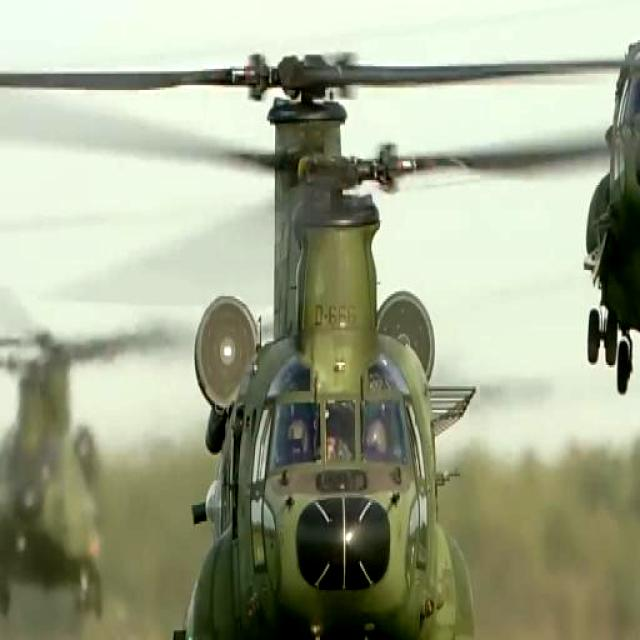drone: (149, 0, 531, 640), (0, 252, 124, 640), (535, 0, 640, 412)
